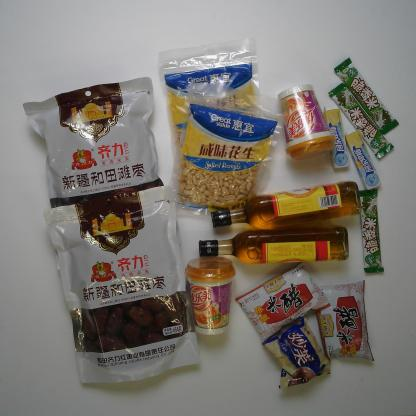Candy: (344, 130, 382, 191), (324, 108, 350, 170)
Chocolate: (328, 82, 394, 160), (334, 58, 398, 135), (359, 188, 384, 274)
Dessert: (261, 318, 331, 390)
Dried Food: (42, 186, 200, 384), (22, 78, 182, 272)
Dried Fruit: (156, 41, 280, 182), (162, 81, 286, 222)
Instant Drink: (277, 83, 336, 161), (185, 256, 236, 334)
Seasoner: (235, 262, 329, 344), (210, 180, 362, 230), (308, 279, 376, 364), (198, 226, 350, 263)
